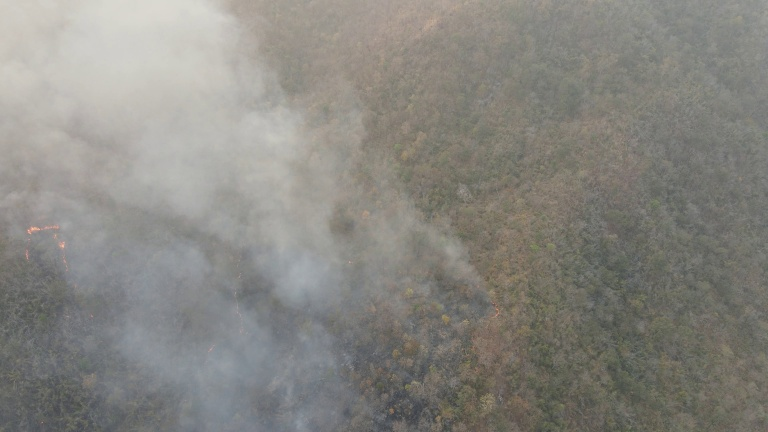fire: (208, 251, 255, 357), (21, 223, 75, 278), (473, 292, 501, 344)
smoke: (1, 1, 496, 431)
